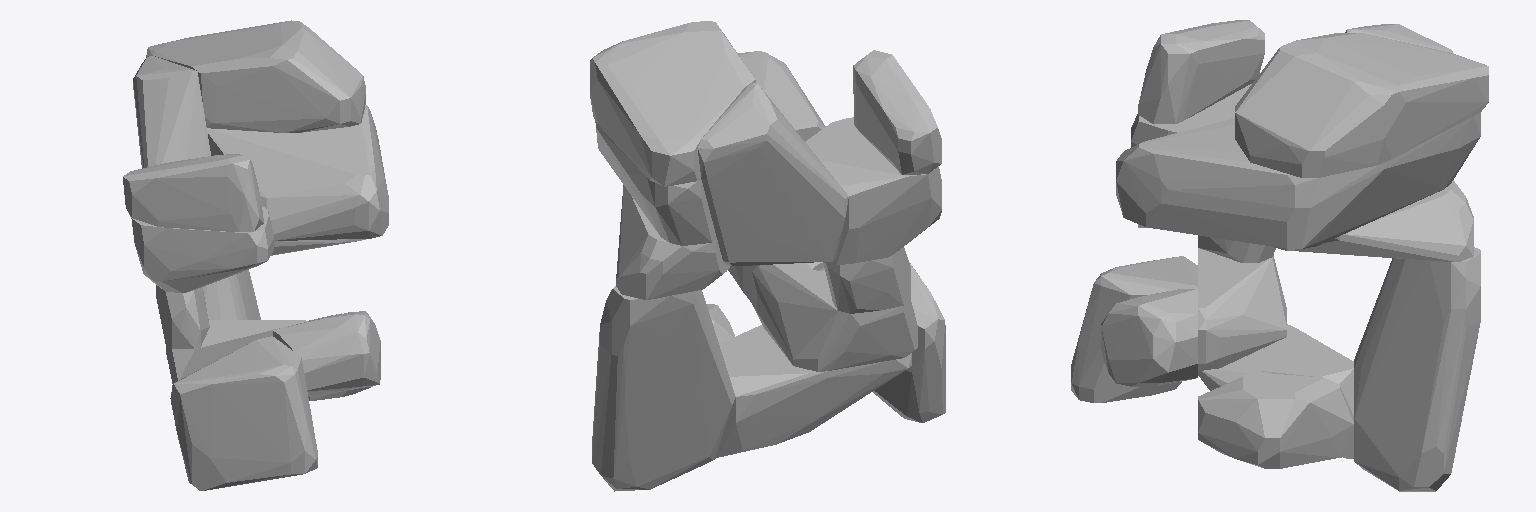
robot.urdf — root:
<robot name="root">
  <link name="link_gearbox_convex_piece_0">
    <inertial>
      <origin rpy="0 0 0" xyz="0 0 0"/>
      <mass value="3.75E-06"/>
      <inertia ixx="4.84E-09" ixy="9.23E-10" ixz="-8.63E-10" iyy="2.73E-09" iyz="-1.99E-09" izz="2.93E-09"/>
    </inertial>
    <visual>
      <origin rpy="0 0 0" xyz="0 0 0"/>
      <geometry>
        <mesh filename="gearbox_convex_piece_0.obj" scale="1.0000E+00"/>
      </geometry>
      <material name="">
        <color rgba="7.50E-01 7.50E-01 7.50E-01 1"/>
      </material>
    </visual>
    <collision>
      <origin rpy="0 0 0" xyz="0 0 0"/>
      <geometry>
        <mesh filename="gearbox_convex_piece_0.obj" scale="1.0000E+00"/>
      </geometry>
    </collision>
  </link>
  <link name="link_gearbox_convex_piece_1">
    <inertial>
      <origin rpy="0 0 0" xyz="0 0 0"/>
      <mass value="2.89E-06"/>
      <inertia ixx="2.33E-09" ixy="-4.34E-10" ixz="-6.61E-10" iyy="1.92E-09" iyz="1.01E-09" izz="1.14E-09"/>
    </inertial>
    <visual>
      <origin rpy="0 0 0" xyz="0 0 0"/>
      <geometry>
        <mesh filename="gearbox_convex_piece_1.obj" scale="1.0000E+00"/>
      </geometry>
      <material name="">
        <color rgba="7.50E-01 7.50E-01 7.50E-01 1"/>
      </material>
    </visual>
    <collision>
      <origin rpy="0 0 0" xyz="0 0 0"/>
      <geometry>
        <mesh filename="gearbox_convex_piece_1.obj" scale="1.0000E+00"/>
      </geometry>
    </collision>
  </link>
  <joint name="link_gearbox_convex_piece_1_joint" type="fixed">
    <origin rpy="0 0 0" xyz="0 0 0"/>
    <parent link="link_gearbox_convex_piece_0"/>
    <child link="link_gearbox_convex_piece_1"/>
  </joint>
  <link name="link_gearbox_convex_piece_2">
    <inertial>
      <origin rpy="0 0 0" xyz="0 0 0"/>
      <mass value="4.00E-06"/>
      <inertia ixx="5.42E-09" ixy="1.31E-09" ixz="1.40E-09" iyy="3.65E-09" iyz="2.59E-09" izz="3.57E-09"/>
    </inertial>
    <visual>
      <origin rpy="0 0 0" xyz="0 0 0"/>
      <geometry>
        <mesh filename="gearbox_convex_piece_2.obj" scale="1.0000E+00"/>
      </geometry>
      <material name="">
        <color rgba="7.50E-01 7.50E-01 7.50E-01 1"/>
      </material>
    </visual>
    <collision>
      <origin rpy="0 0 0" xyz="0 0 0"/>
      <geometry>
        <mesh filename="gearbox_convex_piece_2.obj" scale="1.0000E+00"/>
      </geometry>
    </collision>
  </link>
  <joint name="link_gearbox_convex_piece_2_joint" type="fixed">
    <origin rpy="0 0 0" xyz="0 0 0"/>
    <parent link="link_gearbox_convex_piece_1"/>
    <child link="link_gearbox_convex_piece_2"/>
  </joint>
  <link name="link_gearbox_convex_piece_3">
    <inertial>
      <origin rpy="0 0 0" xyz="0 0 0"/>
      <mass value="1.80E-06"/>
      <inertia ixx="1.56E-09" ixy="-3.58E-10" ixz="-2.51E-10" iyy="7.00E-10" iyz="7.11E-10" izz="1.20E-09"/>
    </inertial>
    <visual>
      <origin rpy="0 0 0" xyz="0 0 0"/>
      <geometry>
        <mesh filename="gearbox_convex_piece_3.obj" scale="1.0000E+00"/>
      </geometry>
      <material name="">
        <color rgba="7.50E-01 7.50E-01 7.50E-01 1"/>
      </material>
    </visual>
    <collision>
      <origin rpy="0 0 0" xyz="0 0 0"/>
      <geometry>
        <mesh filename="gearbox_convex_piece_3.obj" scale="1.0000E+00"/>
      </geometry>
    </collision>
  </link>
  <joint name="link_gearbox_convex_piece_3_joint" type="fixed">
    <origin rpy="0 0 0" xyz="0 0 0"/>
    <parent link="link_gearbox_convex_piece_2"/>
    <child link="link_gearbox_convex_piece_3"/>
  </joint>
  <link name="link_gearbox_convex_piece_4">
    <inertial>
      <origin rpy="0 0 0" xyz="0 0 0"/>
      <mass value="6.97E-07"/>
      <inertia ixx="5.66E-11" ixy="9.81E-11" ixz="6.39E-11" iyy="2.97E-10" iyz="2.26E-11" izz="3.27E-10"/>
    </inertial>
    <visual>
      <origin rpy="0 0 0" xyz="0 0 0"/>
      <geometry>
        <mesh filename="gearbox_convex_piece_4.obj" scale="1.0000E+00"/>
      </geometry>
      <material name="">
        <color rgba="7.50E-01 7.50E-01 7.50E-01 1"/>
      </material>
    </visual>
    <collision>
      <origin rpy="0 0 0" xyz="0 0 0"/>
      <geometry>
        <mesh filename="gearbox_convex_piece_4.obj" scale="1.0000E+00"/>
      </geometry>
    </collision>
  </link>
  <joint name="link_gearbox_convex_piece_4_joint" type="fixed">
    <origin rpy="0 0 0" xyz="0 0 0"/>
    <parent link="link_gearbox_convex_piece_3"/>
    <child link="link_gearbox_convex_piece_4"/>
  </joint>
  <link name="link_gearbox_convex_piece_5">
    <inertial>
      <origin rpy="0 0 0" xyz="0 0 0"/>
      <mass value="4.12E-06"/>
      <inertia ixx="1.20E-09" ixy="6.64E-10" ixz="-8.40E-10" iyy="1.97E-09" iyz="-5.13E-10" izz="1.98E-09"/>
    </inertial>
    <visual>
      <origin rpy="0 0 0" xyz="0 0 0"/>
      <geometry>
        <mesh filename="gearbox_convex_piece_5.obj" scale="1.0000E+00"/>
      </geometry>
      <material name="">
        <color rgba="7.50E-01 7.50E-01 7.50E-01 1"/>
      </material>
    </visual>
    <collision>
      <origin rpy="0 0 0" xyz="0 0 0"/>
      <geometry>
        <mesh filename="gearbox_convex_piece_5.obj" scale="1.0000E+00"/>
      </geometry>
    </collision>
  </link>
  <joint name="link_gearbox_convex_piece_5_joint" type="fixed">
    <origin rpy="0 0 0" xyz="0 0 0"/>
    <parent link="link_gearbox_convex_piece_4"/>
    <child link="link_gearbox_convex_piece_5"/>
  </joint>
  <link name="link_gearbox_convex_piece_6">
    <inertial>
      <origin rpy="0 0 0" xyz="0 0 0"/>
      <mass value="1.34E-06"/>
      <inertia ixx="1.27E-09" ixy="3.93E-10" ixz="-7.47E-10" iyy="1.58E-09" iyz="-5.43E-10" izz="9.99E-10"/>
    </inertial>
    <visual>
      <origin rpy="0 0 0" xyz="0 0 0"/>
      <geometry>
        <mesh filename="gearbox_convex_piece_6.obj" scale="1.0000E+00"/>
      </geometry>
      <material name="">
        <color rgba="7.50E-01 7.50E-01 7.50E-01 1"/>
      </material>
    </visual>
    <collision>
      <origin rpy="0 0 0" xyz="0 0 0"/>
      <geometry>
        <mesh filename="gearbox_convex_piece_6.obj" scale="1.0000E+00"/>
      </geometry>
    </collision>
  </link>
  <joint name="link_gearbox_convex_piece_6_joint" type="fixed">
    <origin rpy="0 0 0" xyz="0 0 0"/>
    <parent link="link_gearbox_convex_piece_5"/>
    <child link="link_gearbox_convex_piece_6"/>
  </joint>
  <link name="link_gearbox_convex_piece_7">
    <inertial>
      <origin rpy="0 0 0" xyz="0 0 0"/>
      <mass value="2.58E-06"/>
      <inertia ixx="1.20E-09" ixy="3.23E-10" ixz="1.45E-10" iyy="3.99E-10" iyz="3.45E-10" izz="1.32E-09"/>
    </inertial>
    <visual>
      <origin rpy="0 0 0" xyz="0 0 0"/>
      <geometry>
        <mesh filename="gearbox_convex_piece_7.obj" scale="1.0000E+00"/>
      </geometry>
      <material name="">
        <color rgba="7.50E-01 7.50E-01 7.50E-01 1"/>
      </material>
    </visual>
    <collision>
      <origin rpy="0 0 0" xyz="0 0 0"/>
      <geometry>
        <mesh filename="gearbox_convex_piece_7.obj" scale="1.0000E+00"/>
      </geometry>
    </collision>
  </link>
  <joint name="link_gearbox_convex_piece_7_joint" type="fixed">
    <origin rpy="0 0 0" xyz="0 0 0"/>
    <parent link="link_gearbox_convex_piece_6"/>
    <child link="link_gearbox_convex_piece_7"/>
  </joint>
  <link name="link_gearbox_convex_piece_8">
    <inertial>
      <origin rpy="0 0 0" xyz="0 0 0"/>
      <mass value="1.08E-05"/>
      <inertia ixx="7.14E-09" ixy="-2.58E-11" ixz="2.49E-09" iyy="6.87E-09" iyz="6.81E-10" izz="5.11E-09"/>
    </inertial>
    <visual>
      <origin rpy="0 0 0" xyz="0 0 0"/>
      <geometry>
        <mesh filename="gearbox_convex_piece_8.obj" scale="1.0000E+00"/>
      </geometry>
      <material name="">
        <color rgba="7.50E-01 7.50E-01 7.50E-01 1"/>
      </material>
    </visual>
    <collision>
      <origin rpy="0 0 0" xyz="0 0 0"/>
      <geometry>
        <mesh filename="gearbox_convex_piece_8.obj" scale="1.0000E+00"/>
      </geometry>
    </collision>
  </link>
  <joint name="link_gearbox_convex_piece_8_joint" type="fixed">
    <origin rpy="0 0 0" xyz="0 0 0"/>
    <parent link="link_gearbox_convex_piece_7"/>
    <child link="link_gearbox_convex_piece_8"/>
  </joint>
  <link name="link_gearbox_convex_piece_9">
    <inertial>
      <origin rpy="0 0 0" xyz="0 0 0"/>
      <mass value="5.87E-06"/>
      <inertia ixx="8.91E-09" ixy="7.64E-10" ixz="2.49E-09" iyy="8.52E-09" iyz="2.82E-09" izz="3.12E-09"/>
    </inertial>
    <visual>
      <origin rpy="0 0 0" xyz="0 0 0"/>
      <geometry>
        <mesh filename="gearbox_convex_piece_9.obj" scale="1.0000E+00"/>
      </geometry>
      <material name="">
        <color rgba="7.50E-01 7.50E-01 7.50E-01 1"/>
      </material>
    </visual>
    <collision>
      <origin rpy="0 0 0" xyz="0 0 0"/>
      <geometry>
        <mesh filename="gearbox_convex_piece_9.obj" scale="1.0000E+00"/>
      </geometry>
    </collision>
  </link>
  <joint name="link_gearbox_convex_piece_9_joint" type="fixed">
    <origin rpy="0 0 0" xyz="0 0 0"/>
    <parent link="link_gearbox_convex_piece_8"/>
    <child link="link_gearbox_convex_piece_9"/>
  </joint>
  <link name="link_gearbox_convex_piece_10">
    <inertial>
      <origin rpy="0 0 0" xyz="0 0 0"/>
      <mass value="2.12E-06"/>
      <inertia ixx="1.90E-09" ixy="-7.15E-11" ixz="-1.17E-09" iyy="2.62E-09" iyz="5.44E-11" izz="9.04E-10"/>
    </inertial>
    <visual>
      <origin rpy="0 0 0" xyz="0 0 0"/>
      <geometry>
        <mesh filename="gearbox_convex_piece_10.obj" scale="1.0000E+00"/>
      </geometry>
      <material name="">
        <color rgba="7.50E-01 7.50E-01 7.50E-01 1"/>
      </material>
    </visual>
    <collision>
      <origin rpy="0 0 0" xyz="0 0 0"/>
      <geometry>
        <mesh filename="gearbox_convex_piece_10.obj" scale="1.0000E+00"/>
      </geometry>
    </collision>
  </link>
  <joint name="link_gearbox_convex_piece_10_joint" type="fixed">
    <origin rpy="0 0 0" xyz="0 0 0"/>
    <parent link="link_gearbox_convex_piece_9"/>
    <child link="link_gearbox_convex_piece_10"/>
  </joint>
  <link name="link_gearbox_convex_piece_11">
    <inertial>
      <origin rpy="0 0 0" xyz="0 0 0"/>
      <mass value="7.76E-07"/>
      <inertia ixx="2.24E-10" ixy="-5.19E-11" ixz="2.56E-11" iyy="1.01E-10" iyz="-1.06E-10" izz="1.91E-10"/>
    </inertial>
    <visual>
      <origin rpy="0 0 0" xyz="0 0 0"/>
      <geometry>
        <mesh filename="gearbox_convex_piece_11.obj" scale="1.0000E+00"/>
      </geometry>
      <material name="">
        <color rgba="7.50E-01 7.50E-01 7.50E-01 1"/>
      </material>
    </visual>
    <collision>
      <origin rpy="0 0 0" xyz="0 0 0"/>
      <geometry>
        <mesh filename="gearbox_convex_piece_11.obj" scale="1.0000E+00"/>
      </geometry>
    </collision>
  </link>
  <joint name="link_gearbox_convex_piece_11_joint" type="fixed">
    <origin rpy="0 0 0" xyz="0 0 0"/>
    <parent link="link_gearbox_convex_piece_10"/>
    <child link="link_gearbox_convex_piece_11"/>
  </joint>
  <link name="link_gearbox_convex_piece_12">
    <inertial>
      <origin rpy="0 0 0" xyz="0 0 0"/>
      <mass value="3.34E-06"/>
      <inertia ixx="3.29E-09" ixy="8.58E-11" ixz="1.30E-10" iyy="3.30E-09" iyz="1.16E-11" izz="3.99E-10"/>
    </inertial>
    <visual>
      <origin rpy="0 0 0" xyz="0 0 0"/>
      <geometry>
        <mesh filename="gearbox_convex_piece_12.obj" scale="1.0000E+00"/>
      </geometry>
      <material name="">
        <color rgba="7.50E-01 7.50E-01 7.50E-01 1"/>
      </material>
    </visual>
    <collision>
      <origin rpy="0 0 0" xyz="0 0 0"/>
      <geometry>
        <mesh filename="gearbox_convex_piece_12.obj" scale="1.0000E+00"/>
      </geometry>
    </collision>
  </link>
  <joint name="link_gearbox_convex_piece_12_joint" type="fixed">
    <origin rpy="0 0 0" xyz="0 0 0"/>
    <parent link="link_gearbox_convex_piece_11"/>
    <child link="link_gearbox_convex_piece_12"/>
  </joint>
  <link name="link_gearbox_convex_piece_13">
    <inertial>
      <origin rpy="0 0 0" xyz="0 0 0"/>
      <mass value="1.90E-06"/>
      <inertia ixx="8.09E-10" ixy="1.69E-10" ixz="3.23E-10" iyy="9.22E-10" iyz="3.18E-10" izz="5.28E-10"/>
    </inertial>
    <visual>
      <origin rpy="0 0 0" xyz="0 0 0"/>
      <geometry>
        <mesh filename="gearbox_convex_piece_13.obj" scale="1.0000E+00"/>
      </geometry>
      <material name="">
        <color rgba="7.50E-01 7.50E-01 7.50E-01 1"/>
      </material>
    </visual>
    <collision>
      <origin rpy="0 0 0" xyz="0 0 0"/>
      <geometry>
        <mesh filename="gearbox_convex_piece_13.obj" scale="1.0000E+00"/>
      </geometry>
    </collision>
  </link>
  <joint name="link_gearbox_convex_piece_13_joint" type="fixed">
    <origin rpy="0 0 0" xyz="0 0 0"/>
    <parent link="link_gearbox_convex_piece_12"/>
    <child link="link_gearbox_convex_piece_13"/>
  </joint>
  <link name="link_gearbox_convex_piece_14">
    <inertial>
      <origin rpy="0 0 0" xyz="0 0 0"/>
      <mass value="1.01E-07"/>
      <inertia ixx="7.71E-12" ixy="5.78E-13" ixz="1.44E-11" iyy="3.26E-11" iyz="2.62E-15" izz="2.51E-11"/>
    </inertial>
    <visual>
      <origin rpy="0 0 0" xyz="0 0 0"/>
      <geometry>
        <mesh filename="gearbox_convex_piece_14.obj" scale="1.0000E+00"/>
      </geometry>
      <material name="">
        <color rgba="7.50E-01 7.50E-01 7.50E-01 1"/>
      </material>
    </visual>
    <collision>
      <origin rpy="0 0 0" xyz="0 0 0"/>
      <geometry>
        <mesh filename="gearbox_convex_piece_14.obj" scale="1.0000E+00"/>
      </geometry>
    </collision>
  </link>
  <joint name="link_gearbox_convex_piece_14_joint" type="fixed">
    <origin rpy="0 0 0" xyz="0 0 0"/>
    <parent link="link_gearbox_convex_piece_13"/>
    <child link="link_gearbox_convex_piece_14"/>
  </joint>
</robot>

--- What the picture shows (computed from the rendered views, not written in the file) ---
The picture shows the robot from 3 angles, left to right: view 1: azimuth 30°, elevation 25°; view 2: azimuth 150°, elevation 25°; view 3: azimuth 270°, elevation 25°; orthographic projection.
Model root with 15 links and 14 joints (14 fixed), rooted at link_gearbox_convex_piece_0, posed every joint at zero.
Links seen in each view (by area): view 1: link_gearbox_convex_piece_2, link_gearbox_convex_piece_9, link_gearbox_convex_piece_8, link_gearbox_convex_piece_6, link_gearbox_convex_piece_5, link_gearbox_convex_piece_1, link_gearbox_convex_piece_3, link_gearbox_convex_piece_13, link_gearbox_convex_piece_4, link_gearbox_convex_piece_0, link_gearbox_convex_piece_11; view 2: link_gearbox_convex_piece_0, link_gearbox_convex_piece_1, link_gearbox_convex_piece_9, link_gearbox_convex_piece_12, link_gearbox_convex_piece_13, link_gearbox_convex_piece_5, link_gearbox_convex_piece_8, link_gearbox_convex_piece_6, link_gearbox_convex_piece_7, link_gearbox_convex_piece_2, link_gearbox_convex_piece_4, link_gearbox_convex_piece_3 (+1 smaller); view 3: link_gearbox_convex_piece_9, link_gearbox_convex_piece_8, link_gearbox_convex_piece_0, link_gearbox_convex_piece_10, link_gearbox_convex_piece_6, link_gearbox_convex_piece_13, link_gearbox_convex_piece_3, link_gearbox_convex_piece_7, link_gearbox_convex_piece_2, link_gearbox_convex_piece_12, link_gearbox_convex_piece_5, link_gearbox_convex_piece_4 (+1 smaller).
Boxes of the visible links, box(x1,y1,x2,y2) form: link_gearbox_convex_piece_2: box(170, 336, 317, 490); link_gearbox_convex_piece_9: box(146, 20, 365, 132); link_gearbox_convex_piece_8: box(207, 105, 388, 240); link_gearbox_convex_piece_6: box(123, 154, 263, 231); link_gearbox_convex_piece_5: box(131, 206, 273, 292); link_gearbox_convex_piece_1: box(133, 56, 210, 168); link_gearbox_convex_piece_3: box(273, 311, 380, 396); link_gearbox_convex_piece_13: box(166, 320, 307, 383); link_gearbox_convex_piece_4: box(156, 285, 209, 348); link_gearbox_convex_piece_0: box(203, 270, 260, 319); link_gearbox_convex_piece_11: box(271, 239, 365, 255); link_gearbox_convex_piece_0: box(592, 286, 735, 491); link_gearbox_convex_piece_1: box(698, 83, 848, 265); link_gearbox_convex_piece_9: box(590, 21, 755, 186); link_gearbox_convex_piece_12: box(717, 325, 911, 457); link_gearbox_convex_piece_13: box(752, 264, 917, 371); link_gearbox_convex_piece_5: box(805, 117, 941, 265); link_gearbox_convex_piece_8: box(595, 51, 825, 245); link_gearbox_convex_piece_6: box(853, 50, 941, 174); link_gearbox_convex_piece_7: box(616, 185, 729, 299); link_gearbox_convex_piece_2: box(819, 262, 945, 422); link_gearbox_convex_piece_4: box(823, 247, 910, 313); link_gearbox_convex_piece_3: box(728, 262, 823, 302); link_gearbox_convex_piece_9: box(1235, 33, 1488, 177); link_gearbox_convex_piece_8: box(1116, 112, 1480, 248); link_gearbox_convex_piece_0: box(1354, 247, 1480, 491); link_gearbox_convex_piece_10: box(1198, 371, 1353, 468); link_gearbox_convex_piece_6: box(1138, 20, 1264, 123); link_gearbox_convex_piece_13: box(1198, 248, 1286, 370); link_gearbox_convex_piece_3: box(1101, 289, 1197, 386); link_gearbox_convex_piece_7: box(1295, 180, 1473, 261); link_gearbox_convex_piece_2: box(1071, 256, 1197, 402); link_gearbox_convex_piece_12: box(1198, 324, 1353, 458); link_gearbox_convex_piece_5: box(1131, 84, 1251, 147); link_gearbox_convex_piece_4: box(1198, 235, 1275, 262).
Size in the robot's own frame: 0.0692 by 0.0791 by 0.0904 metres.
15 mesh visuals loaded from 15 distinct referenced files (15 OBJ).